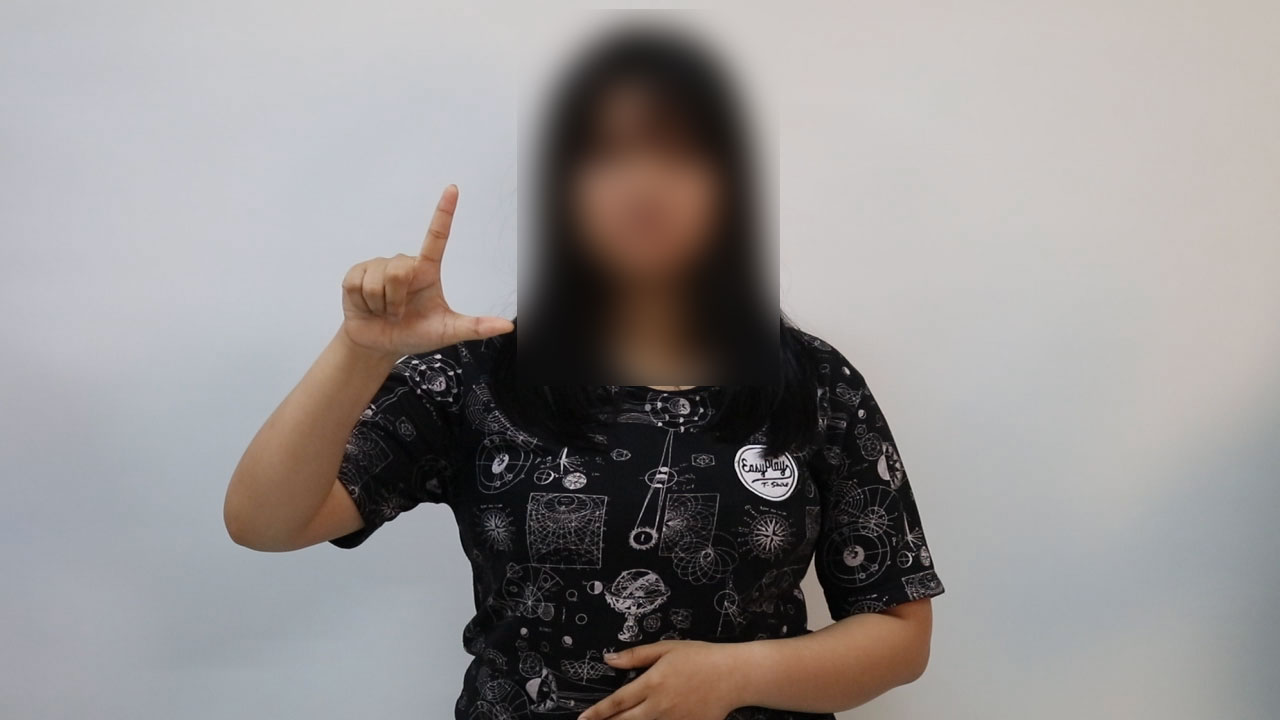lor: (332, 177, 526, 373)
